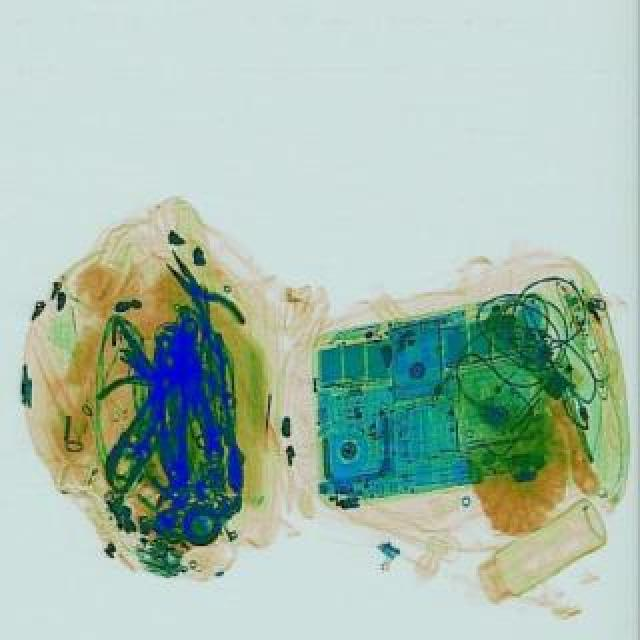wrench: (148, 240, 256, 356)
